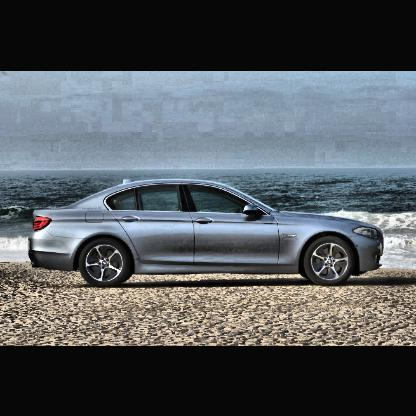BMW ActiveHybrid 5 Sedan 2012: (29, 179, 385, 288)
